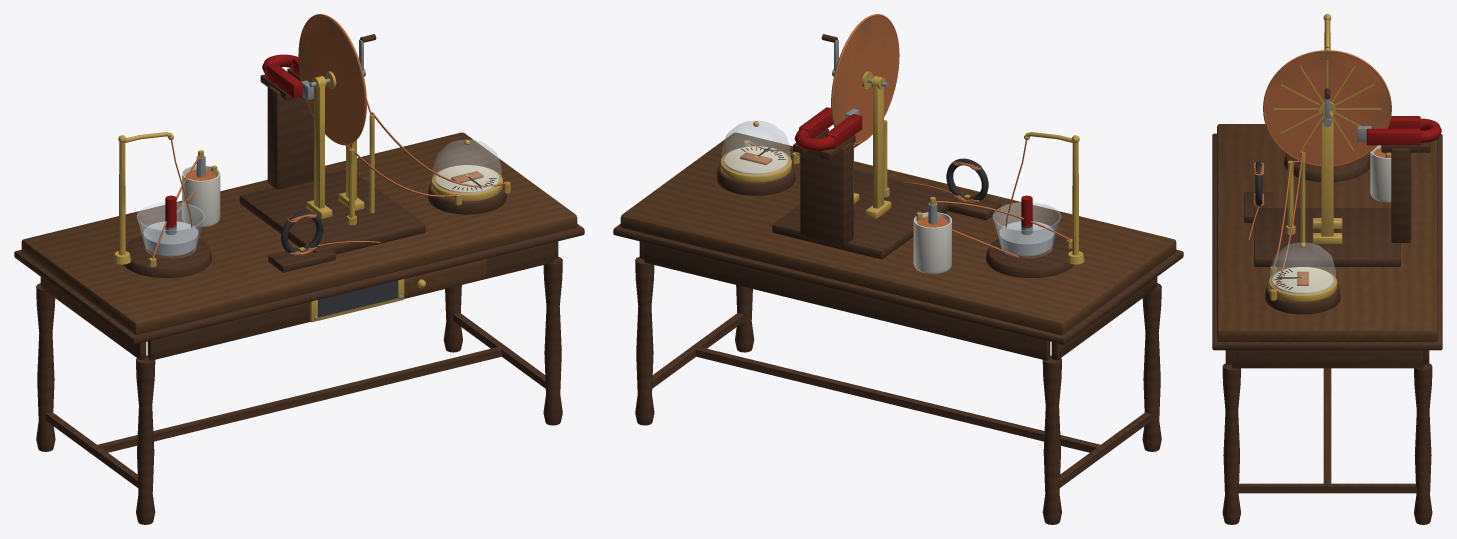
File: faraday.glb
3 renders of one model, left to right at view 1: azimuth 30°, elevation 25°; view 2: azimuth 150°, elevation 25°; view 3: azimuth 270°, elevation 25°, orthographic. The views are drawn at different scales.
Parts seen in each view (by area): view 1: faraday_static, discRig_static, rotRig_static, disc_static, galv_static, battery_static, plaque_static, inductionRing_static, horseshoe_static; view 2: faraday_static, discRig_static, rotRig_static, disc_static, galv_static, battery_static, horseshoe_static, inductionRing_static; view 3: faraday_static, discRig_static, disc_static, galv_static, horseshoe_static, rotRig_static, battery_static, inductionRing_static.
Boxes of the visible parts, x1,y1,x2,y2 form: faraday_static: (14,112,584,524); discRig_static: (239,68,425,254); rotRig_static: (113,132,211,277); disc_static: (298,14,366,145); galv_static: (428,139,510,214); battery_static: (182,150,220,227); plaque_static: (310,279,404,322); inductionRing_static: (268,211,335,272); horseshoe_static: (262,54,313,100); faraday_static: (613,132,1183,524); discRig_static: (772,76,956,259); rotRig_static: (986,132,1084,277); disc_static: (831,14,899,145); galv_static: (717,121,799,195); battery_static: (913,197,951,273); horseshoe_static: (794,107,862,151); inductionRing_static: (946,158,1001,220); faraday_static: (1212,124,1442,524); discRig_static: (1254,111,1430,266); disc_static: (1263,50,1391,166); galv_static: (1265,242,1340,314); horseshoe_static: (1357,116,1441,145); rotRig_static: (1283,14,1370,181); battery_static: (1370,145,1391,202); inductionRing_static: (1244,161,1273,222).
Size of the model in its own units: 2.04 by 1.76 by 0.94.
Materials: 13 (5 with a texture image).
